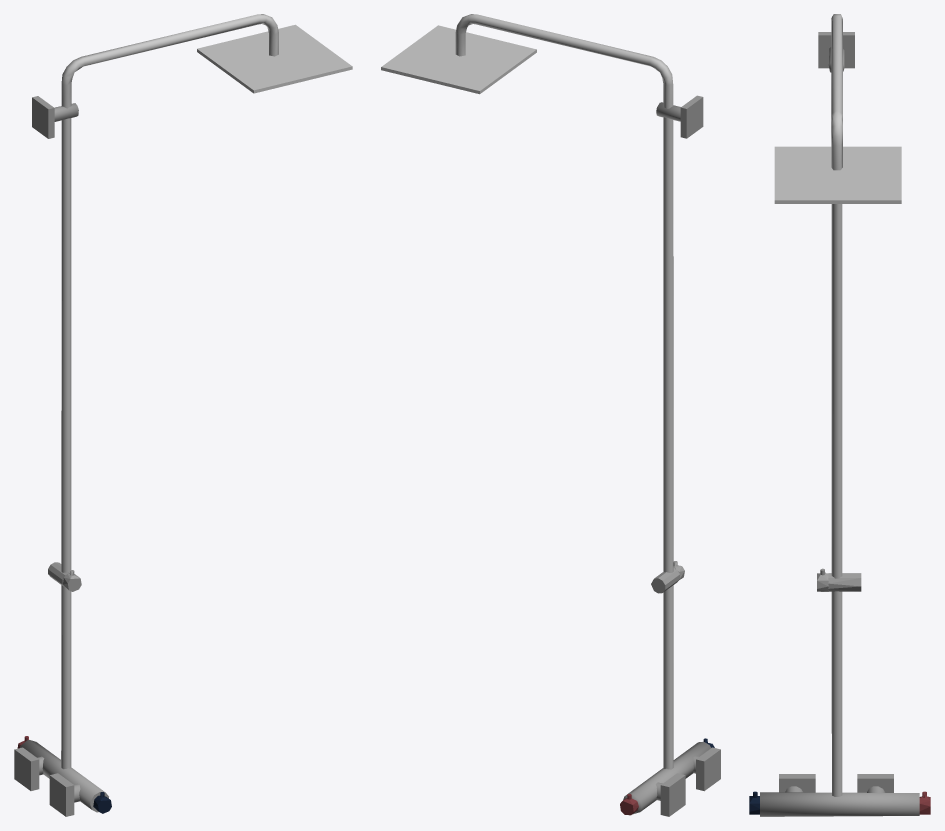
The model's file is shower.dae.
3 renders of one model, left to right at view 1: azimuth 30°, elevation 25°; view 2: azimuth 150°, elevation 25°; view 3: azimuth 270°, elevation 25°, orthographic. The views are drawn at different scales.
Parts seen in each view (by area): view 1: Pile, OBJECT__65_001, Support; view 2: Pile, OBJECT__65_001, Support; view 3: Pile, OBJECT__65_001, Support, Nod.
Boxes of the visible parts, bbox=[...] form: Pile: bbox=[61, 14, 278, 769]; OBJECT__65_001: bbox=[197, 24, 352, 93]; Support: bbox=[14, 96, 108, 816]; Pile: bbox=[455, 14, 673, 769]; OBJECT__65_001: bbox=[381, 25, 536, 94]; Support: bbox=[623, 95, 720, 816]; Pile: bbox=[831, 14, 842, 796]; OBJECT__65_001: bbox=[774, 146, 901, 203]; Support: bbox=[760, 32, 919, 816]; Nod: bbox=[817, 568, 930, 814].
Bounding box in the file's own units: 0.5477 × 0.2704 × 1.34.
